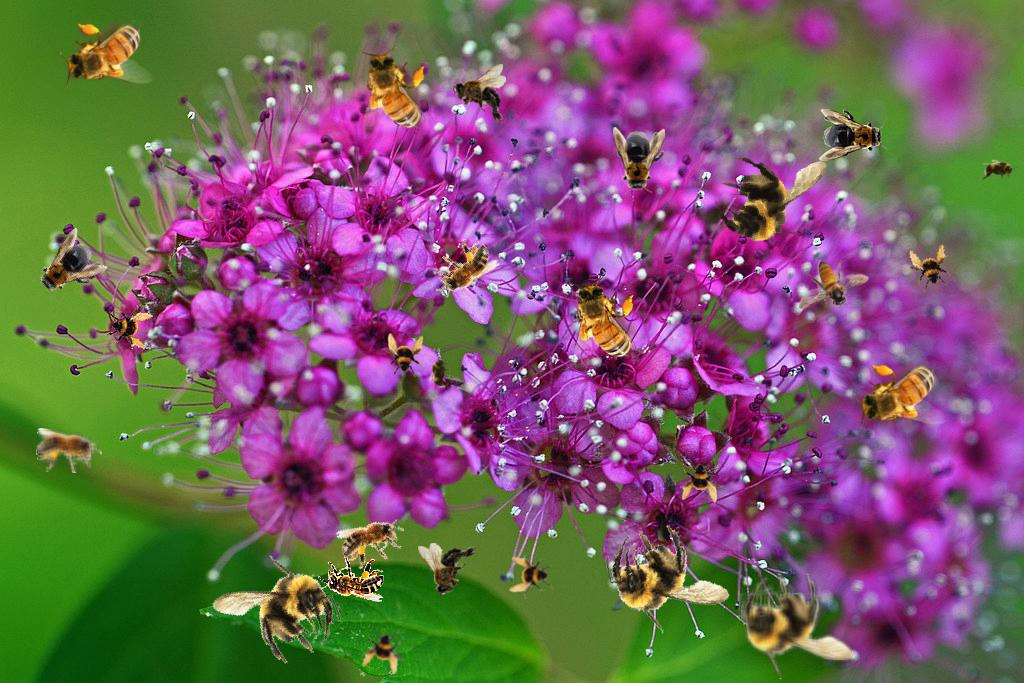Bee: (695, 117, 848, 272), (202, 538, 351, 683), (600, 514, 735, 643), (739, 573, 854, 680), (24, 227, 110, 311), (357, 45, 429, 142), (569, 277, 637, 370), (854, 361, 947, 429), (60, 20, 153, 88), (422, 230, 502, 309), (333, 506, 413, 575), (798, 260, 869, 310), (613, 127, 665, 195), (819, 109, 887, 161), (453, 64, 506, 126), (418, 543, 480, 596), (901, 240, 957, 296), (36, 428, 102, 473), (318, 557, 384, 602), (359, 625, 411, 677), (104, 301, 154, 351), (509, 555, 553, 599), (381, 333, 425, 377), (680, 459, 724, 503), (428, 352, 452, 394), (979, 159, 1019, 181)
